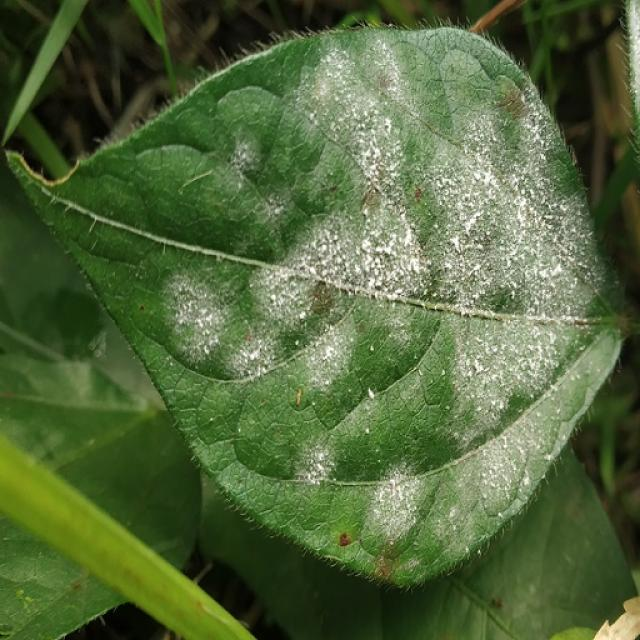Blackgram: (10, 28, 625, 585)
Powdery_Mildew: (299, 51, 543, 281), (325, 96, 434, 298), (440, 305, 573, 439), (161, 258, 307, 378), (406, 134, 527, 271), (496, 190, 600, 300), (250, 259, 343, 360), (454, 420, 540, 517), (318, 249, 441, 315), (330, 35, 420, 108), (288, 321, 349, 387), (368, 471, 424, 541), (170, 276, 230, 338), (290, 434, 339, 483), (228, 328, 271, 371), (230, 135, 262, 178), (458, 209, 486, 239), (547, 262, 564, 278), (473, 360, 484, 374), (522, 475, 531, 486)
